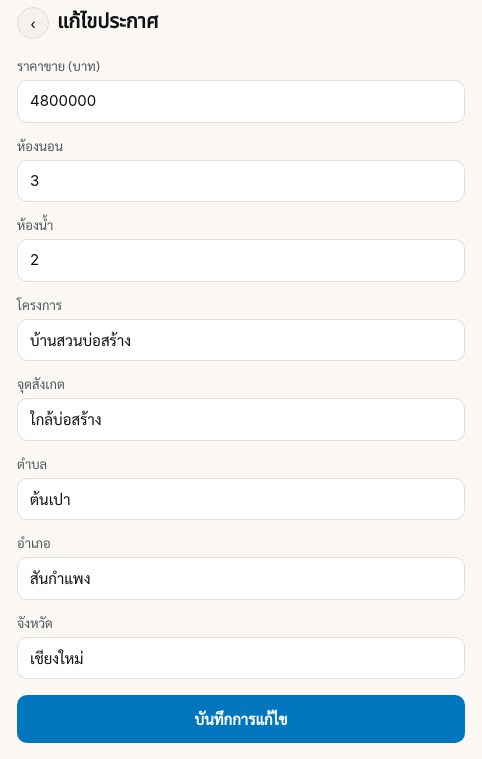
Test: Owner edit surface (/edit/{id}) › a transient (500) PATCH failure shows the retry-able error inline, staying on the form
Expected: the heading "แก้ไขประกาศ" is shown, [57, 9, 158, 37]
What coordinates should you click on to do the following:
click the button "บันทึกการแก้ไข"
I would click on:
 (241, 719)
Its box is [17, 695, 465, 743].
(page scrolled)
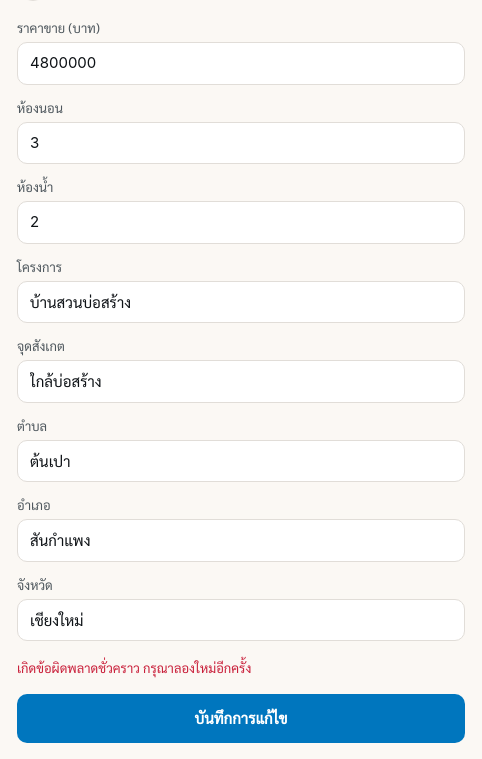
Expected: the text "เกิดข้อผิดพลาดชั่วคราว กรุณาลองใหม่อีกครั้ง" is shown, [17, 659, 251, 676]
